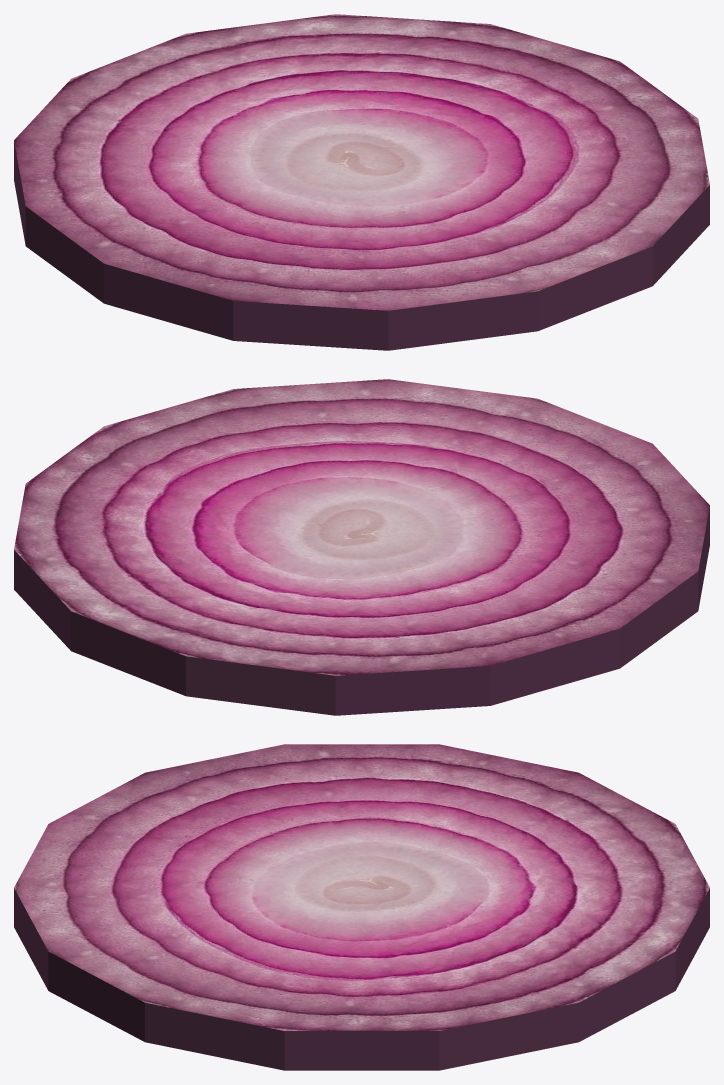
The model's file is onion.fbx.
The picture shows the model from 3 angles, top to bottom: view 1: azimuth 30°, elevation 25°; view 2: azimuth 150°, elevation 25°; view 3: azimuth 270°, elevation 25°; orthographic projection.
Visible parts, largest first — view 1: Cylinder.021; view 2: Cylinder.021; view 3: Cylinder.021.
Boxes of the visible parts, x1=… form: Cylinder.021: x1=14, y1=14, x2=709, y2=350; Cylinder.021: x1=14, y1=379, x2=709, y2=715; Cylinder.021: x1=14, y1=744, x2=709, y2=1070.
Bounding box in the file's own units: 18.71 × 1.2 × 19.19.
Materials: 2 (1 with a texture image).
